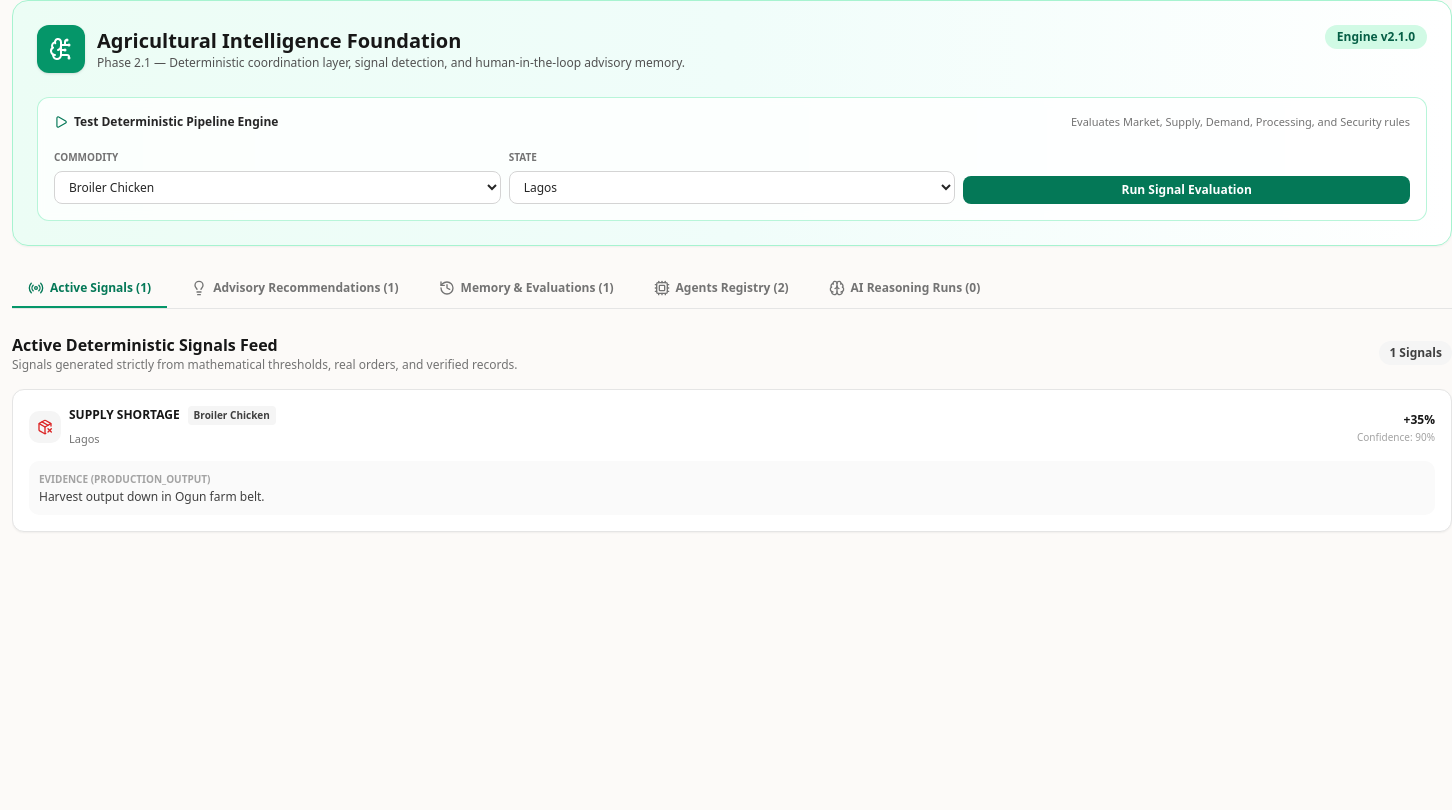
Scenario: Phase 2.1: Agricultural Intelligence UI Component Tests › 5. renders master IntelligenceOverview and switches tabs
This screenshot has width=1452, height=810.
Check: the heading "Agricultural Intelligence Foundation" is shown, box top-left (97, 27), bottom-right (461, 54)
// Switch to Recommendations tab
Step 1. Click the button "Advisory Recommendations (1)" → (295, 288), box top-left (175, 270), bottom-right (414, 308)
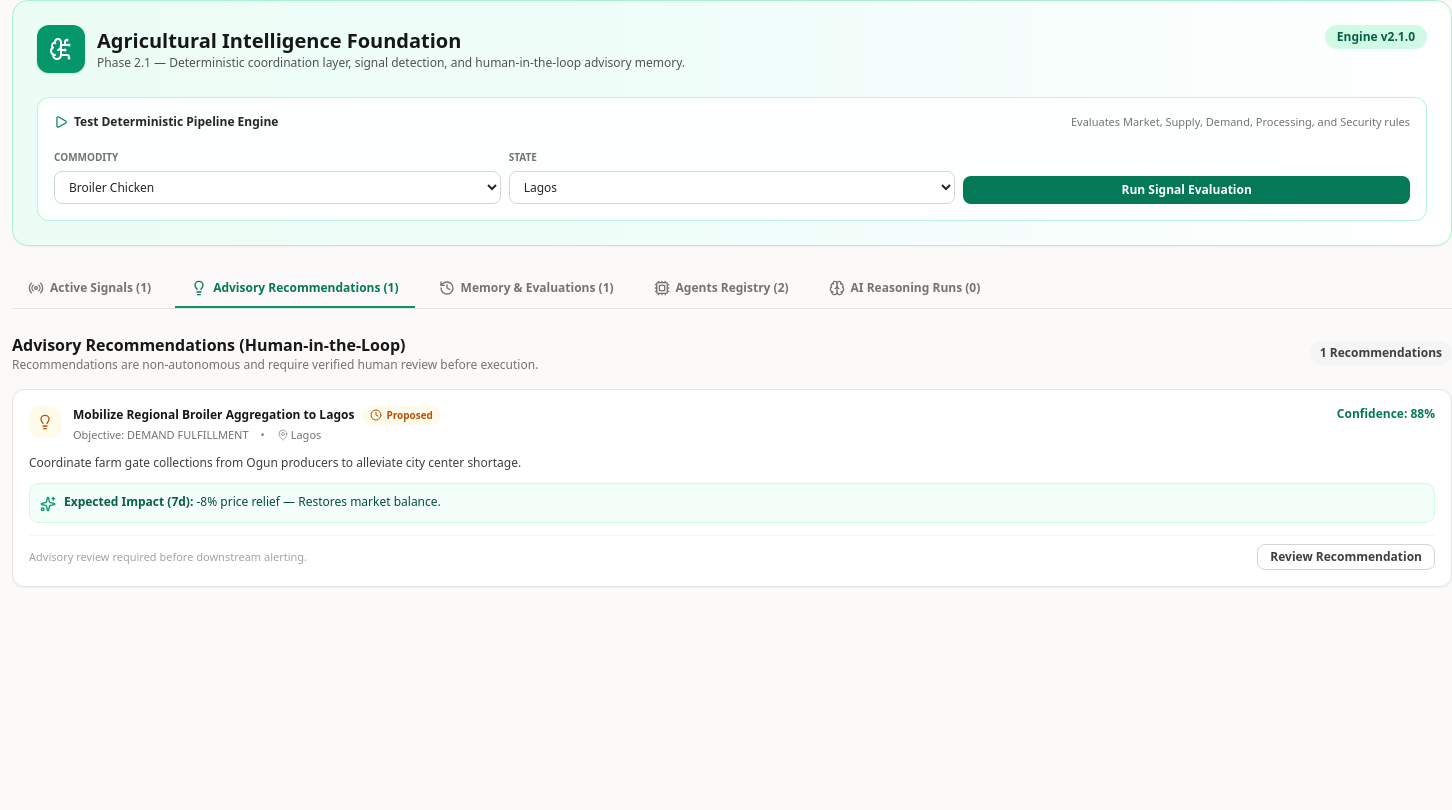
Check: the heading "Mobilize Regional Broiler Aggregation to Lagos" is shown, box top-left (73, 407), bottom-right (354, 423)
// Switch to Memory & Evaluations tab
Step 2. Click the button "Memory & Evaluations (1)" → (526, 288), box top-left (423, 270), bottom-right (630, 308)
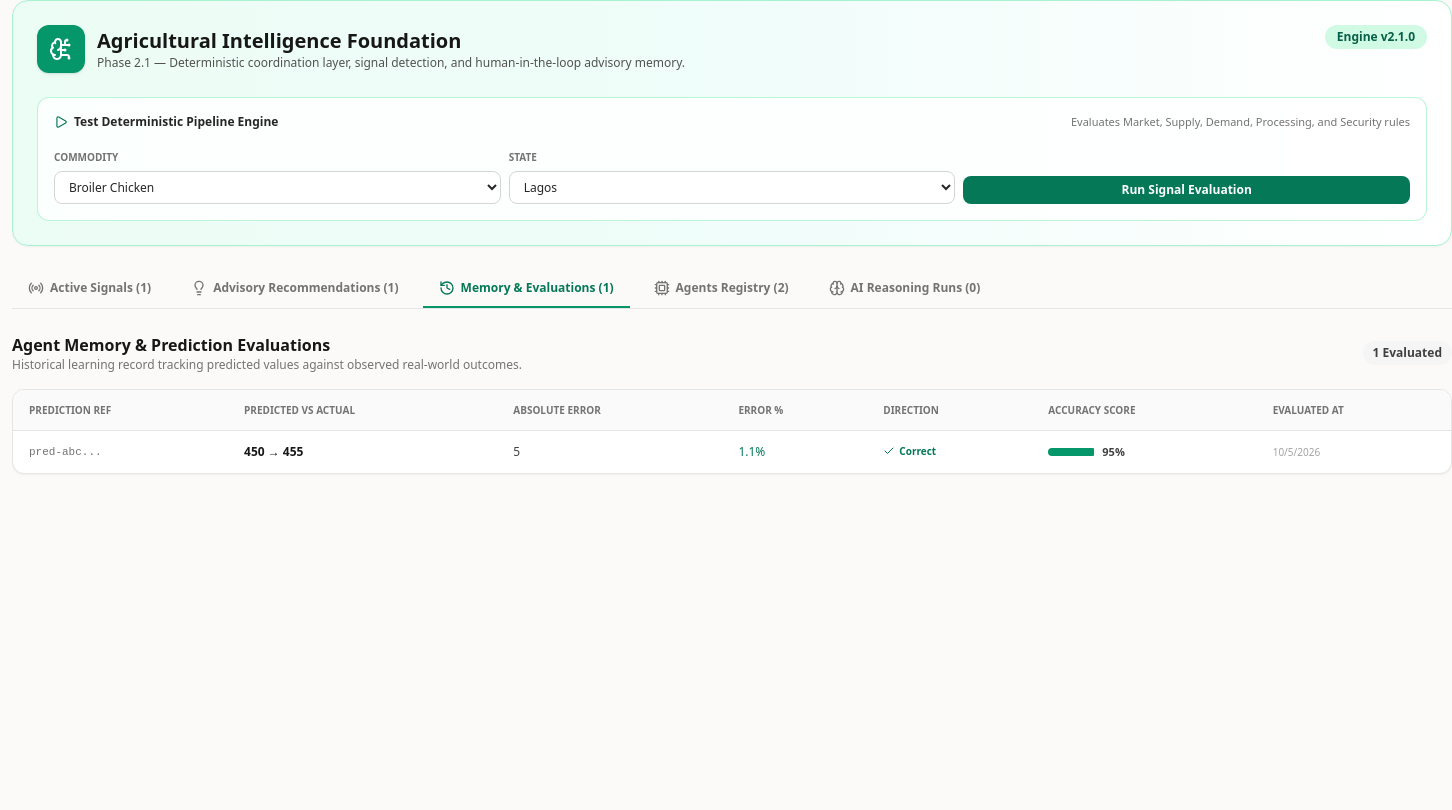
Check: the text "450 → 455" is shown, box top-left (228, 430), bottom-right (497, 472)
// Switch to Agents tab
Step 3. Click the button "Agents Registry (2)" → (721, 288), box top-left (638, 270), bottom-right (805, 308)
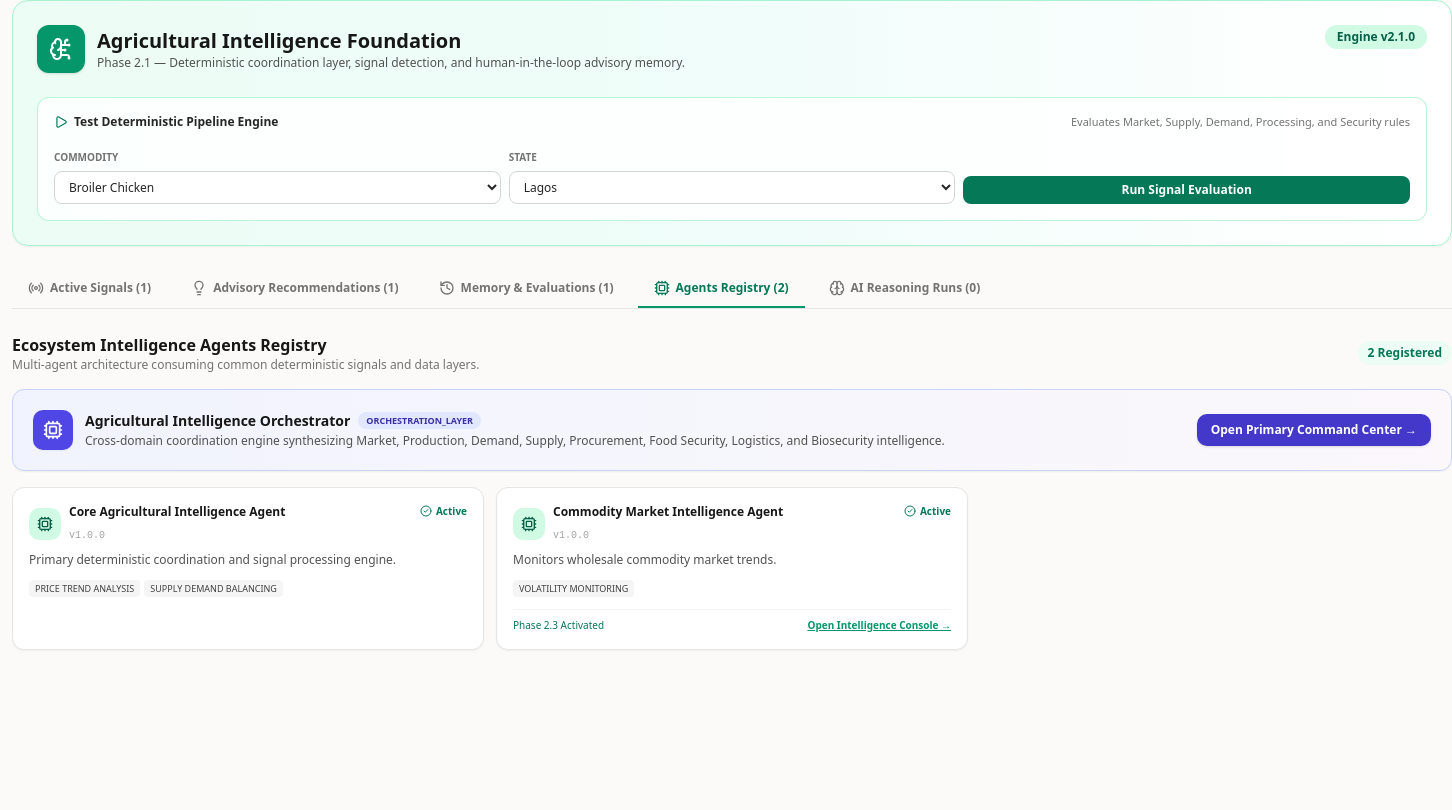
Check: the heading "Core Agricultural Intelligence Agent" is shown, box top-left (69, 504), bottom-right (285, 520)
